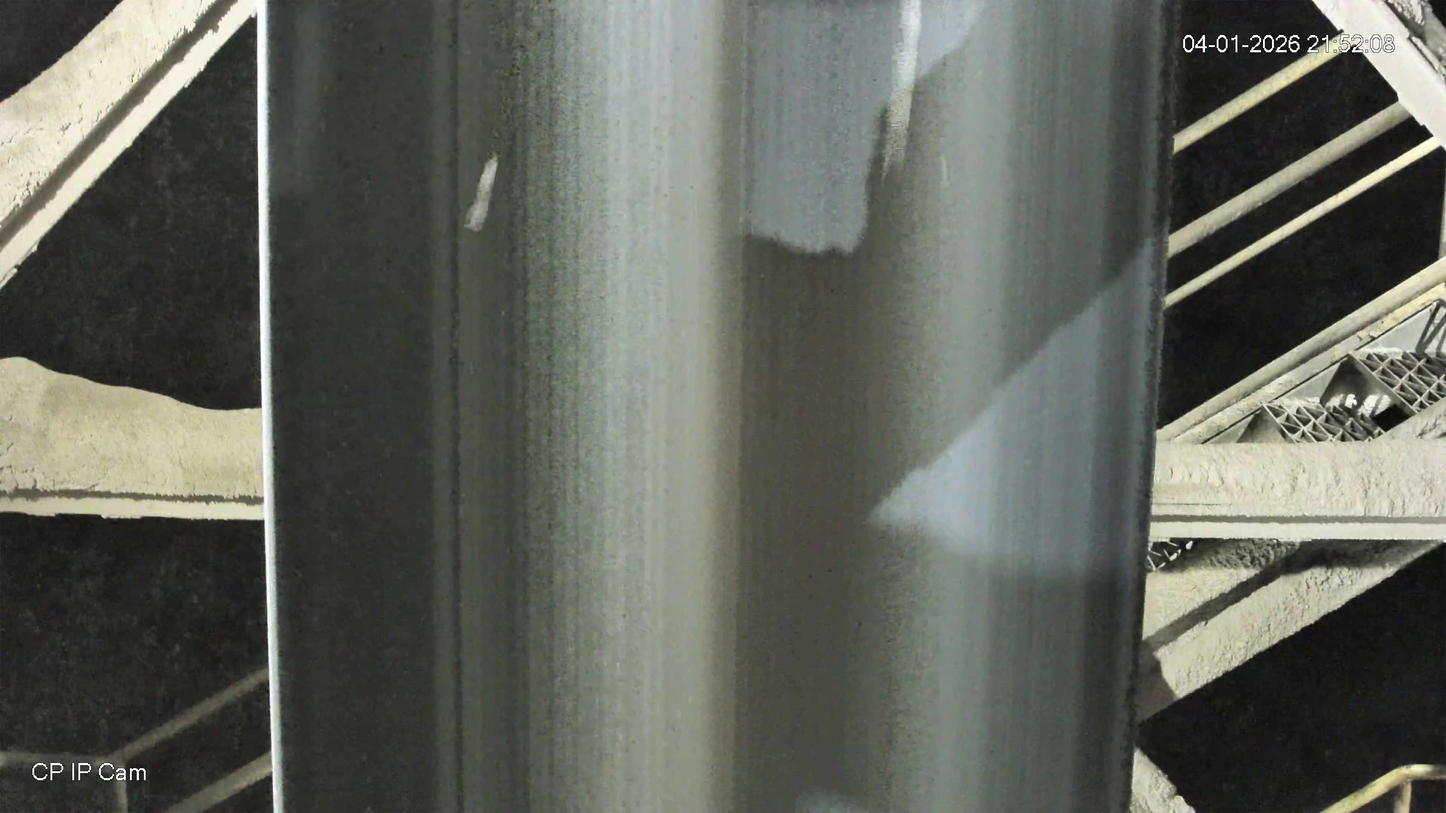belt_roi: (252, 0, 1178, 813)
